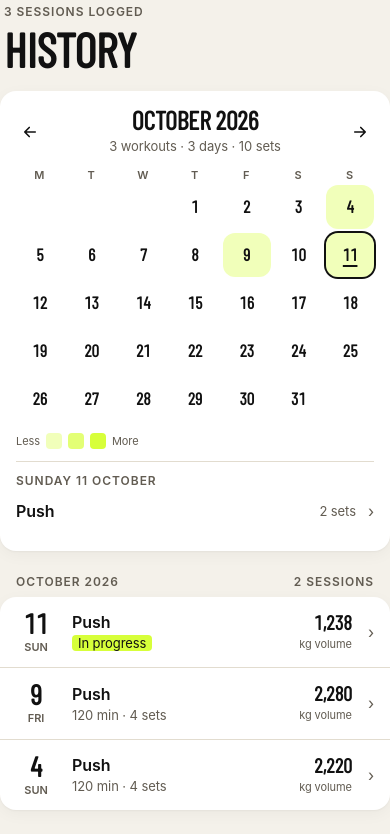
training calendar on History › a day you did not train is a rest day
Expected: the element named "Training calendar" is shown, [0,91,389,552]
Click the button "7": click(143, 255) [119,233,167,277]
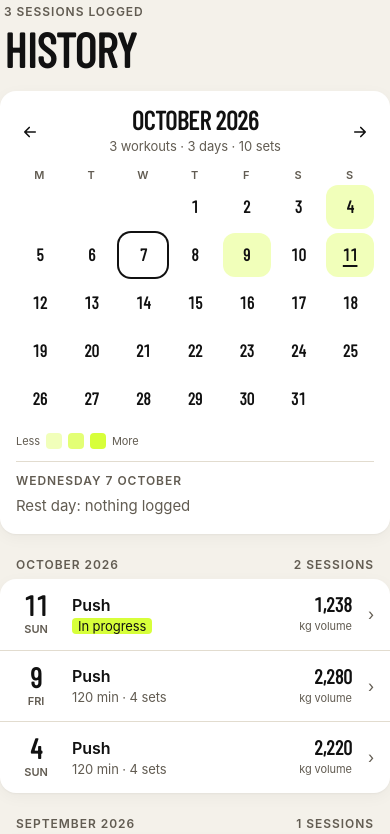
Expected: the text "Rest day: nothing logged" is shown, [16,496,190,516]
